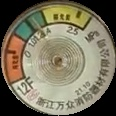green: (13, 13, 46, 40)
needle: (30, 14, 49, 42)
red: (2, 31, 28, 86)
yellow: (42, 2, 95, 31)
